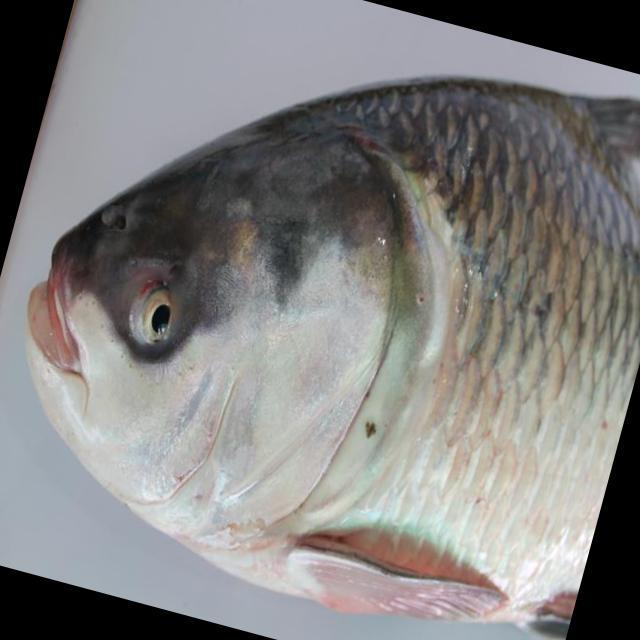Catla: (22, 71, 640, 632)
